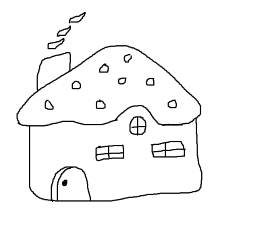closed_window: (147, 139, 189, 164), (91, 141, 128, 167), (125, 113, 149, 140)
door: (45, 157, 95, 207)
roof: (11, 41, 205, 131)
smoking_chimney: (28, 9, 91, 93)
wall: (22, 105, 205, 206)
